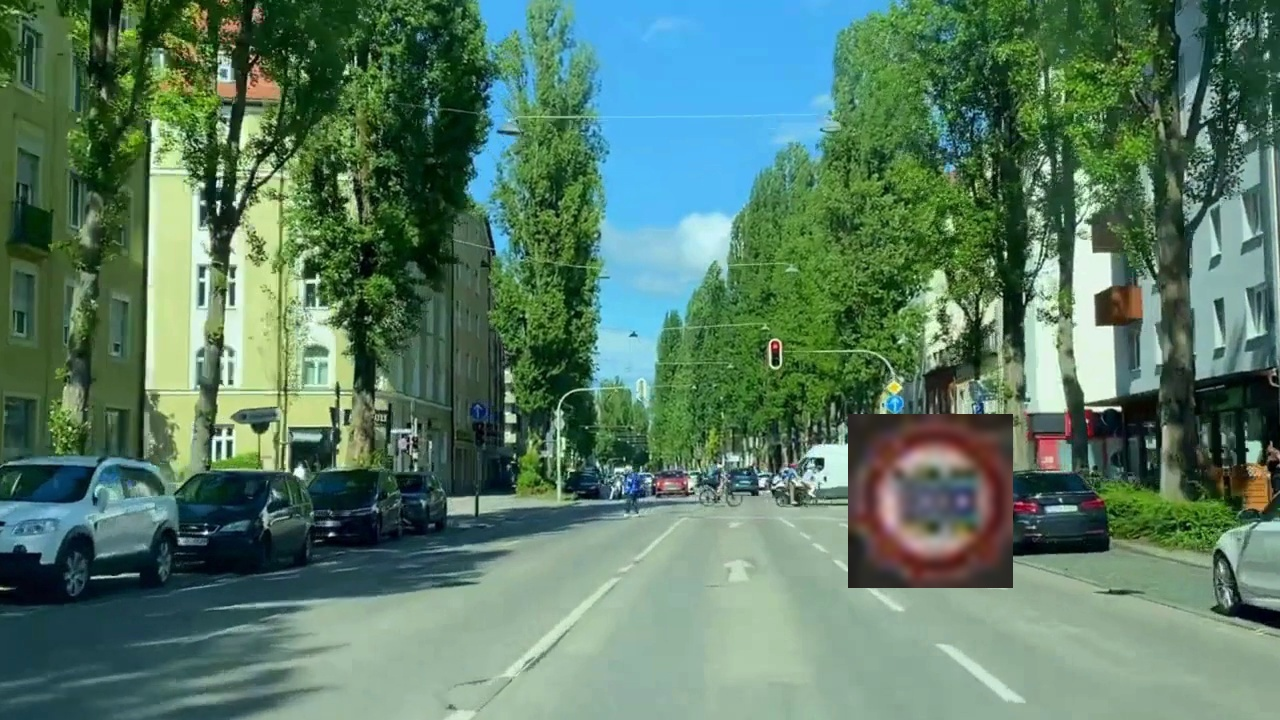Speed 100: (848, 414, 1013, 588)
